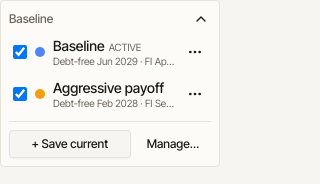
Test: ScenariosPanel › clicking the collapse toggle hides the scenarios list
Check: the text "Aggressive payoff" is shown, box x1=53 y1=79 x2=164 y2=96
Check: the button "+ Save current" is shown, box x1=9 y1=130 x2=131 y2=158
Click the button with test id "scenarios-panel-toggle": (201, 19) x1=191 y1=9 x2=211 y2=29
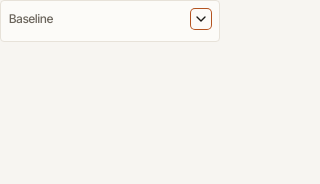
Check: the button "Aggressive payoff" is gone
Check: the button "Save current" is gone
